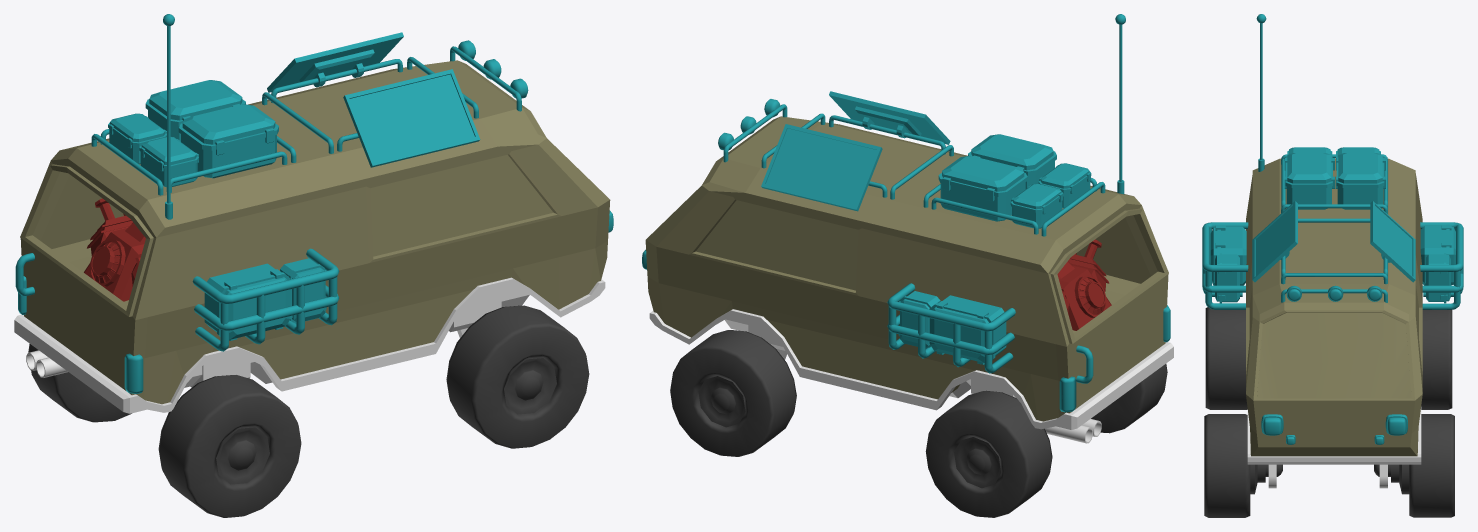
The model's file is Van_propre_2.fbx.
The picture shows the model from 3 angles, left to right: view 1: azimuth 30°, elevation 25°; view 2: azimuth 150°, elevation 25°; view 3: azimuth 270°, elevation 25°; orthographic projection. The views are drawn at different scales.
Parts seen in each view (by area): view 1: CHASSIS, MNEUS, DESSOUS_VAN, polySurface6, polySurface12, MOTEUR, polySurface46, polySurface35, polySurface37, polySurface25, polySurface54, polySurface20 (+6 smaller); view 2: CHASSIS, MNEUS, DESSOUS_VAN, polySurface35, polySurface37, MOTEUR, polySurface68, polySurface12, polySurface6, polySurface20, polySurface55, polySurface25 (+6 smaller); view 3: CHASSIS, MNEUS, polySurface37, polySurface12, DESSOUS_VAN, polySurface6, polySurface35, polySurface46, polySurface68, polySurface54, polySurface51, polySurface63 (+12 smaller).
Boxes of the visible parts, left/top/right/bottom form: CHASSIS: left=20, top=60, right=610, bottom=404; MNEUS: left=28, top=305, right=589, bottom=517; DESSOUS_VAN: left=14, top=277, right=605, bottom=413; polySurface6: left=343, top=69, right=480, bottom=167; polySurface12: left=178, top=104, right=278, bottom=178; MOTEUR: left=84, top=198, right=145, bottom=301; polySurface46: left=204, top=263, right=290, bottom=339; polySurface35: left=267, top=32, right=403, bottom=92; polySurface37: left=145, top=80, right=245, bottom=141; polySurface25: left=139, top=137, right=198, bottom=186; polySurface54: left=192, top=248, right=339, bottom=303; polySurface20: left=108, top=113, right=166, bottom=164; CHASSIS: left=645, top=116, right=1168, bottom=421; MNEUS: left=670, top=330, right=1167, bottom=517; DESSOUS_VAN: left=649, top=309, right=1173, bottom=443; polySurface35: left=761, top=124, right=882, bottom=211; polySurface37: left=938, top=156, right=1027, bottom=221; MOTEUR: left=1057, top=239, right=1111, bottom=330; polySurface68: left=929, top=295, right=1006, bottom=362; polySurface12: left=968, top=134, right=1056, bottom=188; polySurface6: left=829, top=91, right=950, bottom=144; polySurface20: left=1010, top=183, right=1063, bottom=228; polySurface55: left=887, top=283, right=1015, bottom=331; polySurface25: left=1038, top=163, right=1091, bottom=208; CHASSIS: left=1246, top=158, right=1422, bottom=456; MNEUS: left=1204, top=307, right=1454, bottom=517; polySurface37: left=1336, top=153, right=1384, bottom=209; polySurface12: left=1285, top=153, right=1332, bottom=209; DESSOUS_VAN: left=1247, top=407, right=1421, bottom=488; polySurface6: left=1252, top=201, right=1297, bottom=282; polySurface35: left=1370, top=201, right=1415, bottom=282; polySurface46: left=1210, top=226, right=1246, bottom=285; polySurface68: left=1420, top=224, right=1455, bottom=285; polySurface54: left=1202, top=222, right=1248, bottom=271; polySurface51: left=1215, top=253, right=1239, bottom=303; polySurface63: left=1426, top=253, right=1450, bottom=303.
Bounding box in the file's own units: 79.27 × 72.54 × 45.68.
